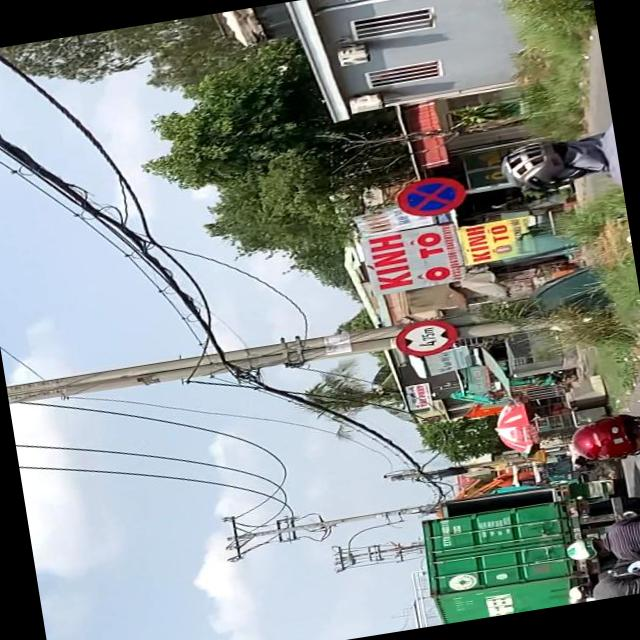P-117: (391, 315, 462, 360)
P-130: (394, 172, 468, 220)
